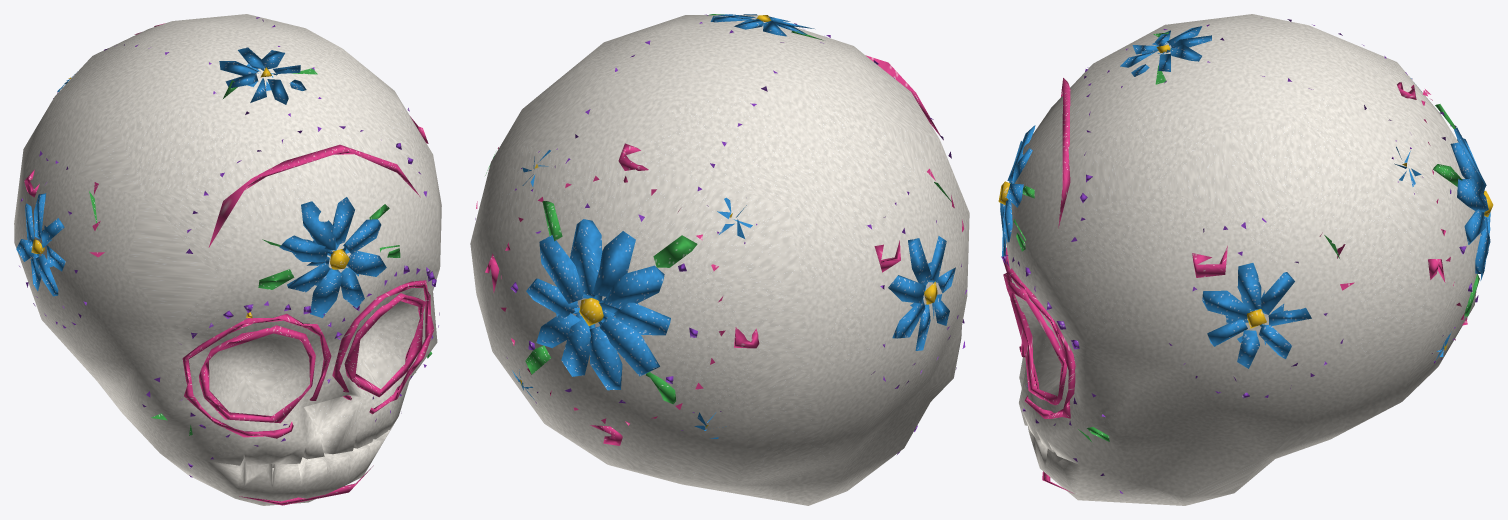
File: calaverita_medio.obj
The picture shows the model from 3 angles, left to right: view 1: azimuth 30°, elevation 25°; view 2: azimuth 150°, elevation 25°; view 3: azimuth 270°, elevation 25°; orthographic projection. The views are drawn at different scales.
Visible parts, largest first — view 1: Calaverita, Deco_Betun_Lineas, Deco_Flores, Deco_Puntos, Deco_Hojas, Deco_Centros; view 2: Calaverita, Deco_Flores, Deco_Betun_Lineas, Deco_Hojas, Deco_Puntos, Deco_Centros; view 3: Calaverita, Deco_Flores, Deco_Betun_Lineas, Deco_Hojas, Deco_Puntos, Deco_Centros.
Boxes of the visible parts, x1,y1,x2,y2 form: Calaverita: [14, 14, 441, 505]; Deco_Betun_Lineas: [24, 23, 434, 505]; Deco_Flores: [16, 47, 386, 317]; Deco_Puntos: [19, 17, 439, 477]; Deco_Hojas: [89, 68, 432, 435]; Deco_Centros: [31, 67, 349, 318]; Calaverita: [470, 15, 969, 505]; Deco_Flores: [512, 14, 955, 438]; Deco_Betun_Lineas: [476, 55, 964, 445]; Deco_Hojas: [485, 14, 951, 404]; Deco_Puntos: [475, 14, 967, 454]; Deco_Centros: [520, 15, 937, 427]; Calaverita: [1006, 14, 1480, 505]; Deco_Flores: [1000, 26, 1490, 368]; Deco_Betun_Lineas: [1003, 78, 1467, 493]; Deco_Hojas: [1013, 32, 1479, 441]; Deco_Puntos: [1001, 18, 1478, 493]; Deco_Centros: [998, 45, 1493, 350].
Bounding box in the file's own units: 2.02 × 2.02 × 2.09.
6 materials, 6 textured.
